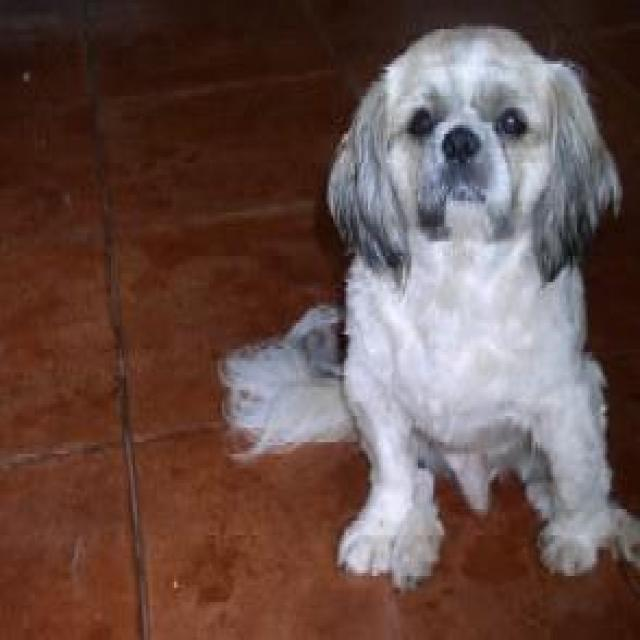shih_tzu: (218, 21, 638, 590)
